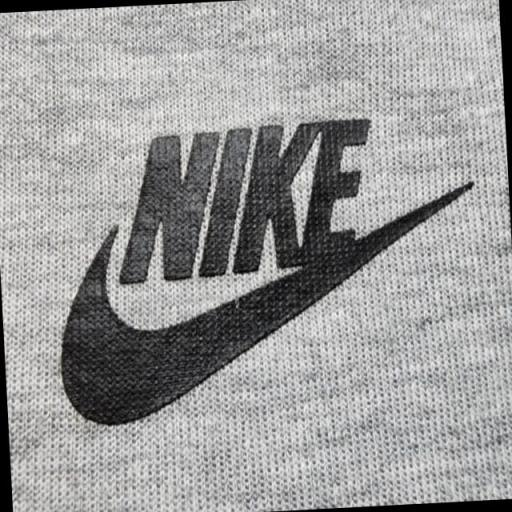Nike: (54, 216, 434, 432), (112, 115, 377, 287)
